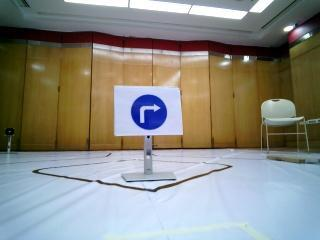right: (121, 89, 179, 132)
